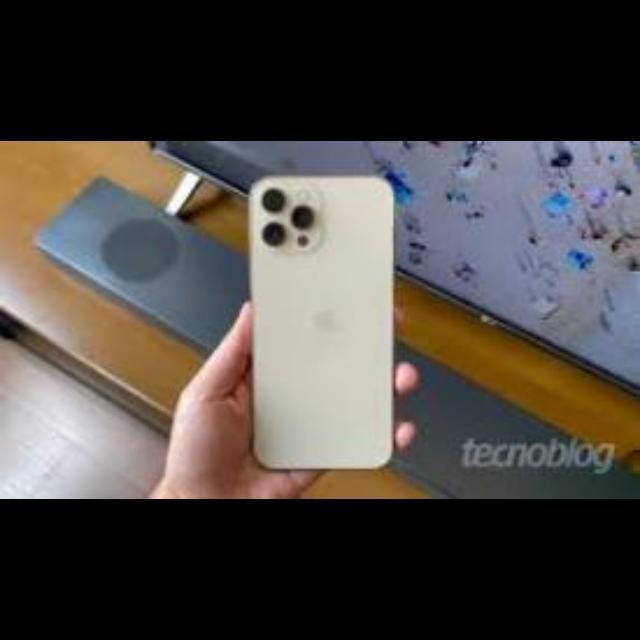PhoneUse: (248, 174, 394, 472)
